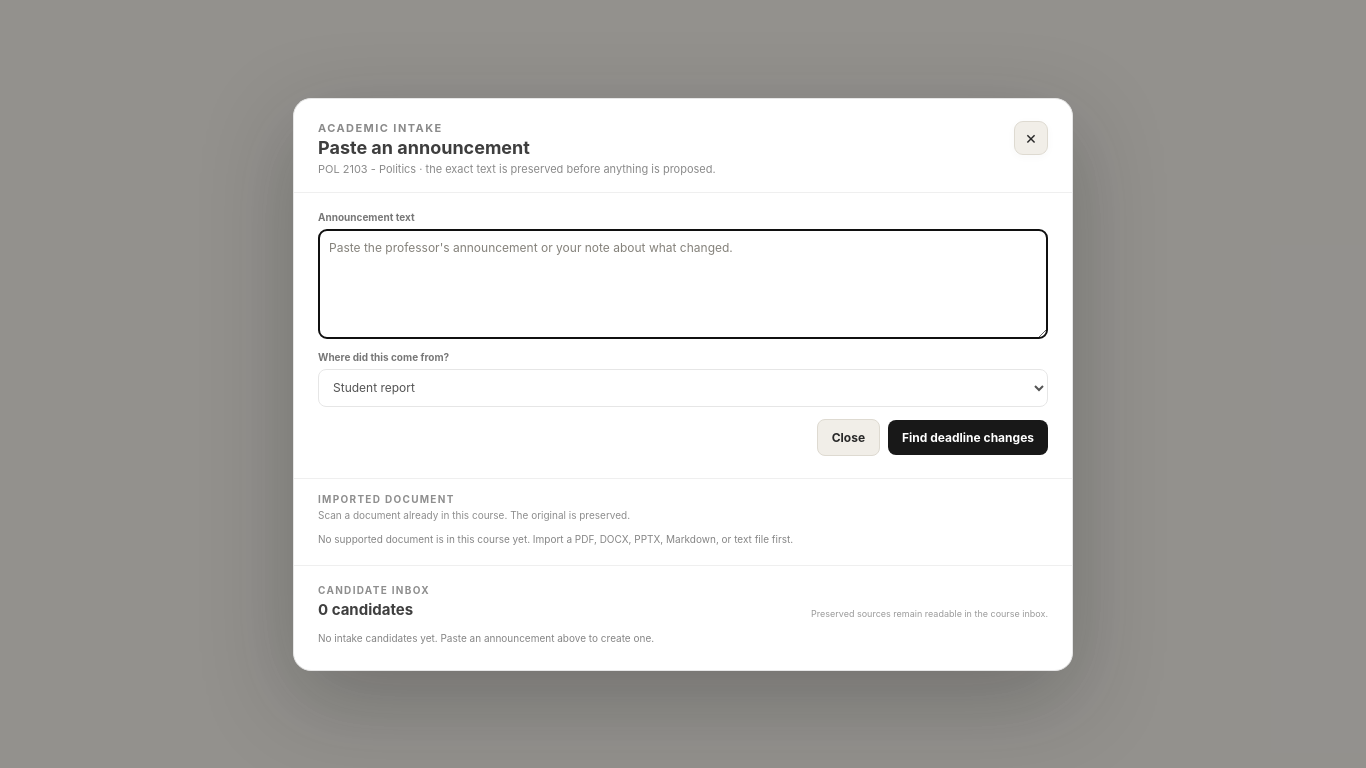
IntakeDialog › opens an already verified intake change as a result, not a pending approval
The image size is (1366, 768).
Later steps or results of the test are not shown.
Replace the text in the text box labelled "Announcement text" with "My professor moved the Second Essay deadline to November 20." at (683, 284), box x1=318 y1=228 x2=1048 y2=338
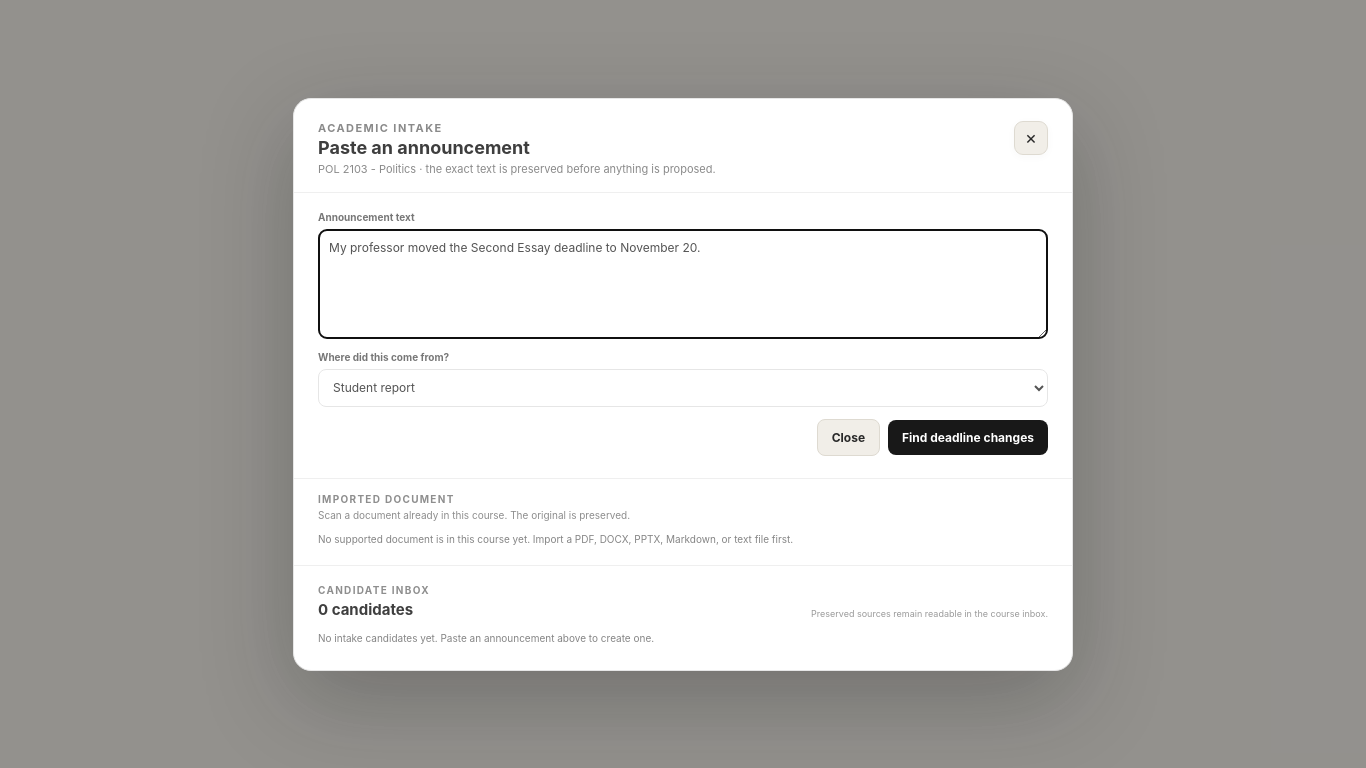
Click the button "Find deadline changes" at (968, 437), box x1=888 y1=420 x2=1048 y2=454
(page scrolled)
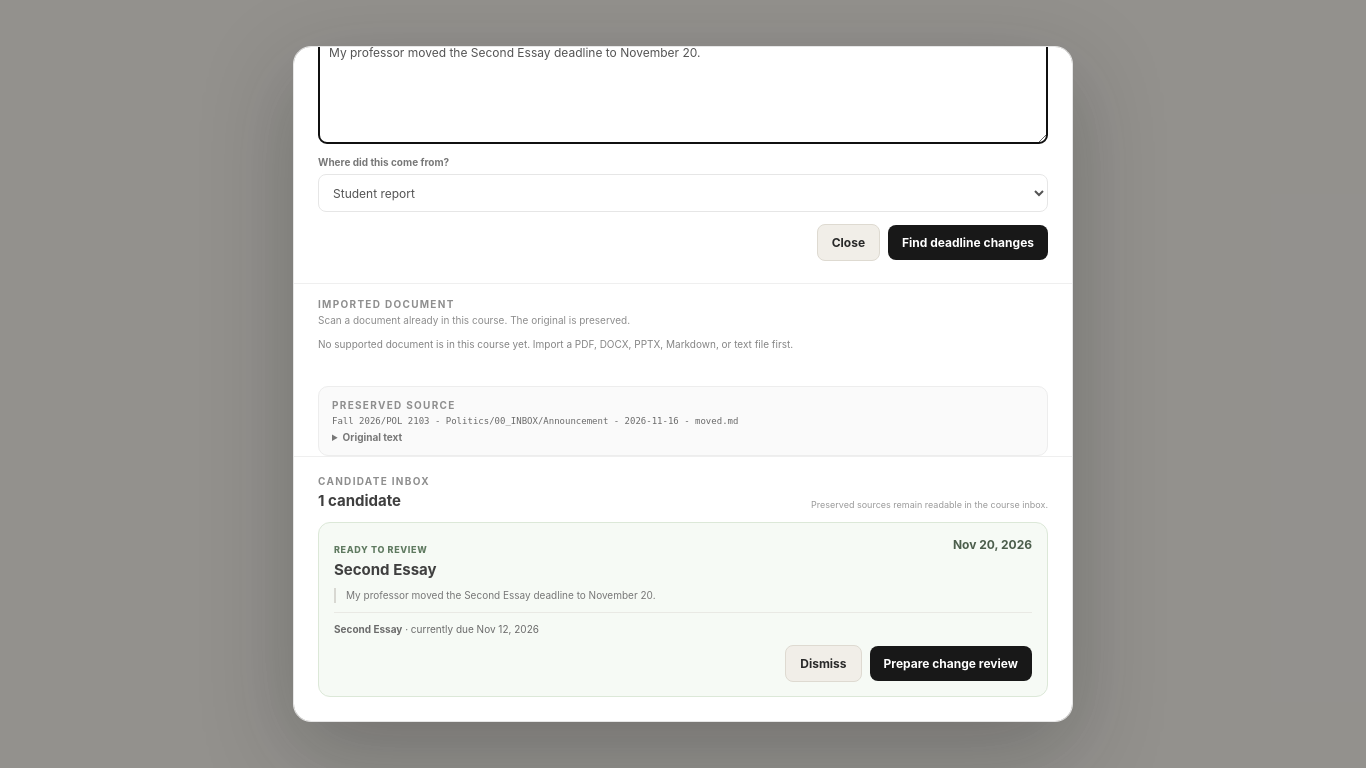
Check: the heading "Second Essay" is shown, box x1=334 y1=560 x2=436 y2=579
Click the button "Prepare change review" at (951, 664), box x1=870 y1=646 x2=1032 y2=681
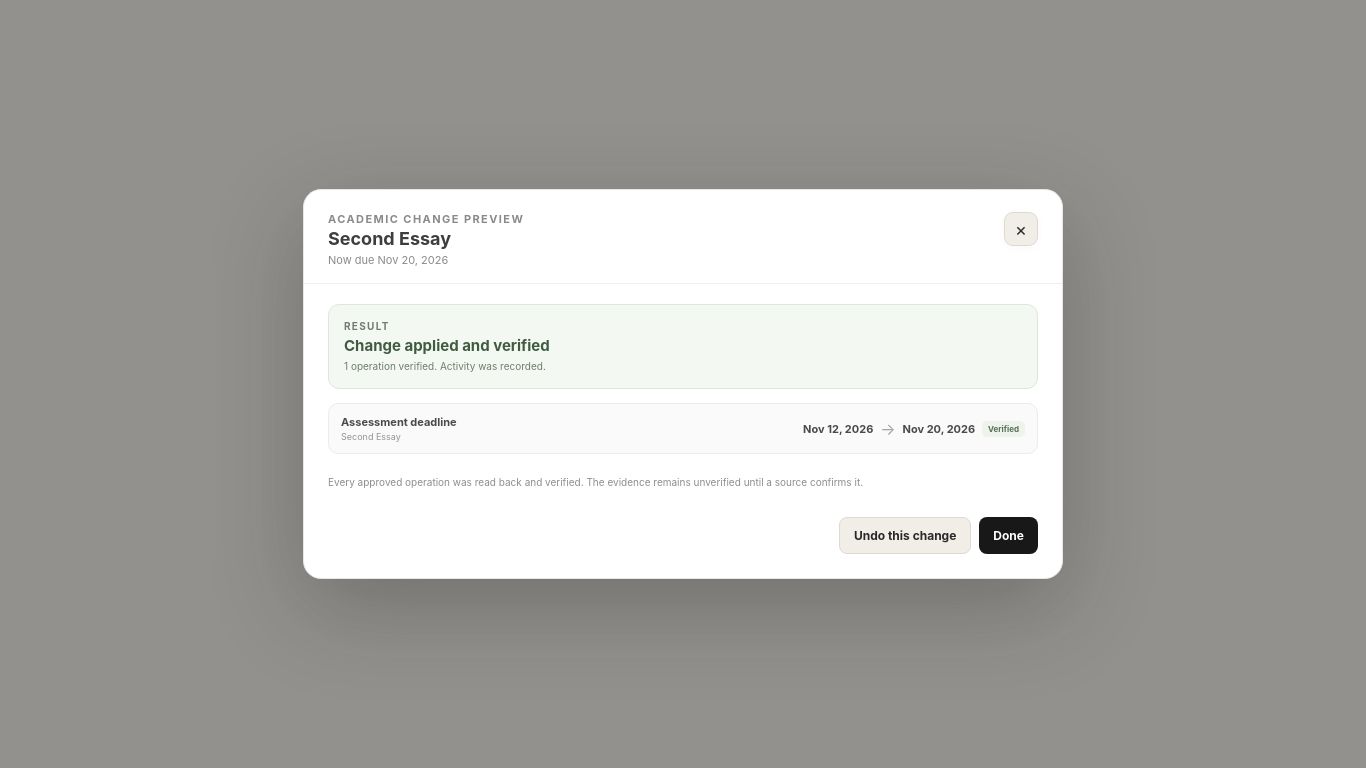
Check: the heading "Change applied and verified" is shown, box x1=344 y1=336 x2=550 y2=355
Click the button "Done" at (1009, 536), box x1=979 y1=517 x2=1038 y2=554
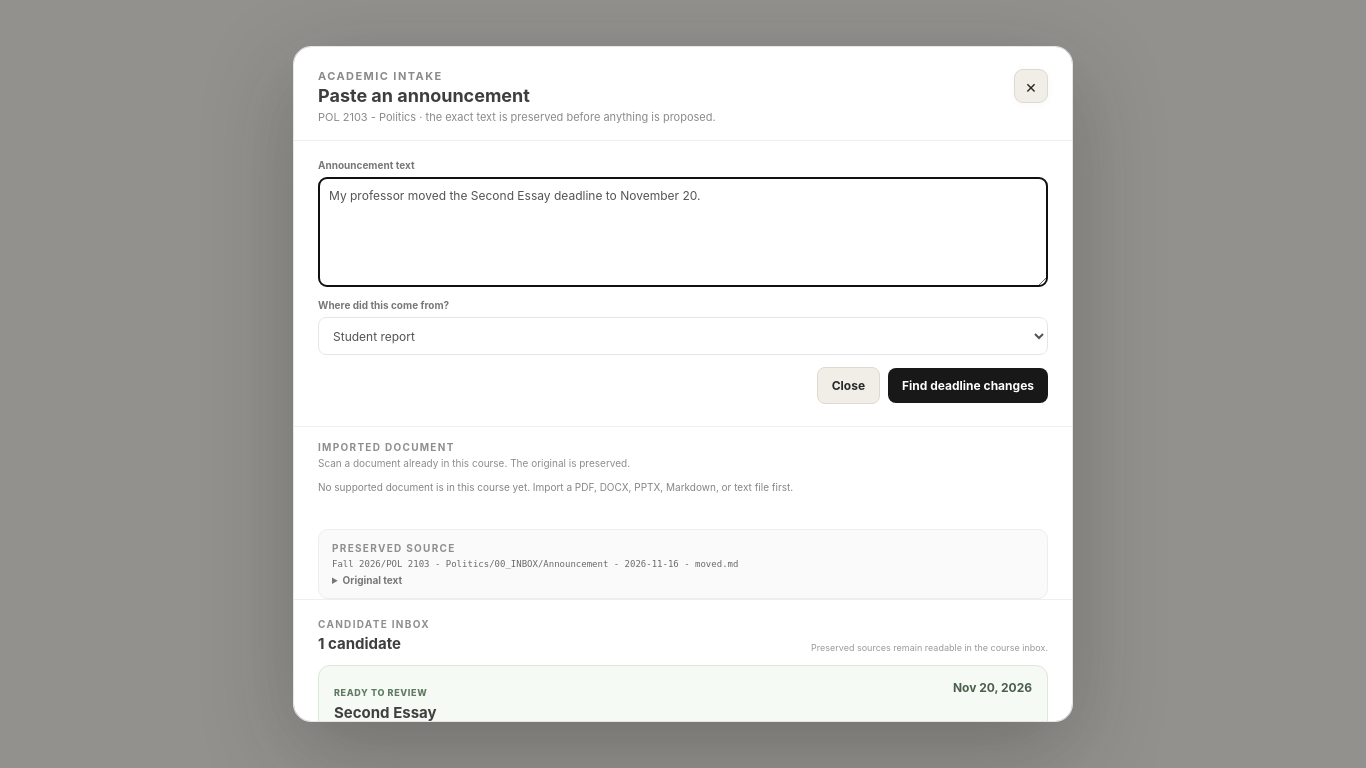
Check: the text "Candidate inbox" is shown, box x1=318 y1=618 x2=430 y2=630
